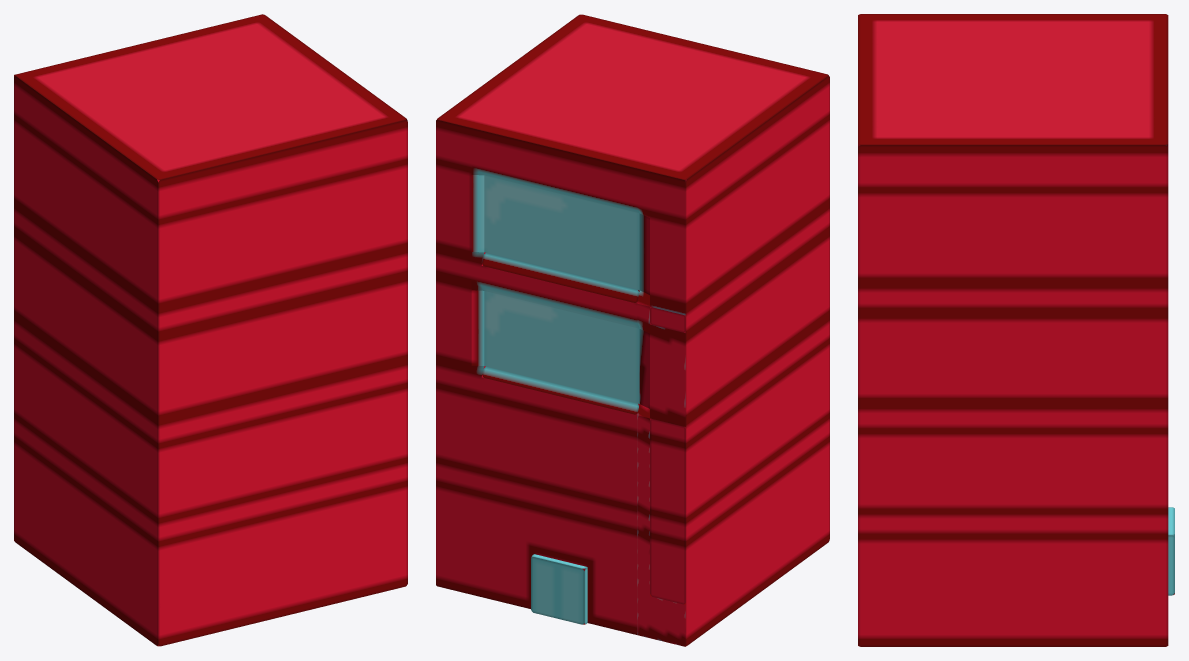
The model's file is building2.fbx.
The picture shows the model from 3 angles, left to right: view 1: azimuth 30°, elevation 25°; view 2: azimuth 150°, elevation 25°; view 3: azimuth 270°, elevation 25°; orthographic projection. The views are drawn at different scales.
Visible parts, largest first — view 1: group; view 2: group; view 3: group.
Part boxes in pixels (x1,y1,x2,y2): group: [14, 14, 407, 646]; group: [436, 14, 829, 646]; group: [858, 14, 1174, 646].
Bounding box in the file's own units: 87.5 × 156 × 89.38.
1 material, 1 textured.
